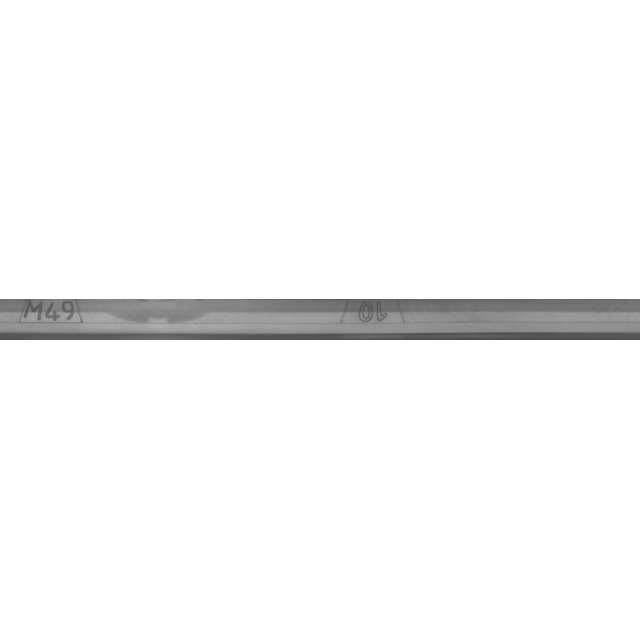mohao: (0, 270, 148, 370)
xuehao: (273, 270, 473, 370)
